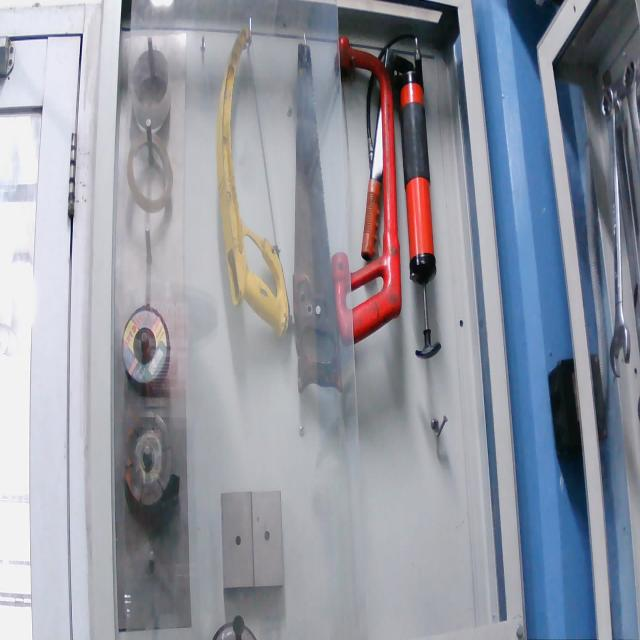gergaji_besi: (331, 34, 403, 348)
